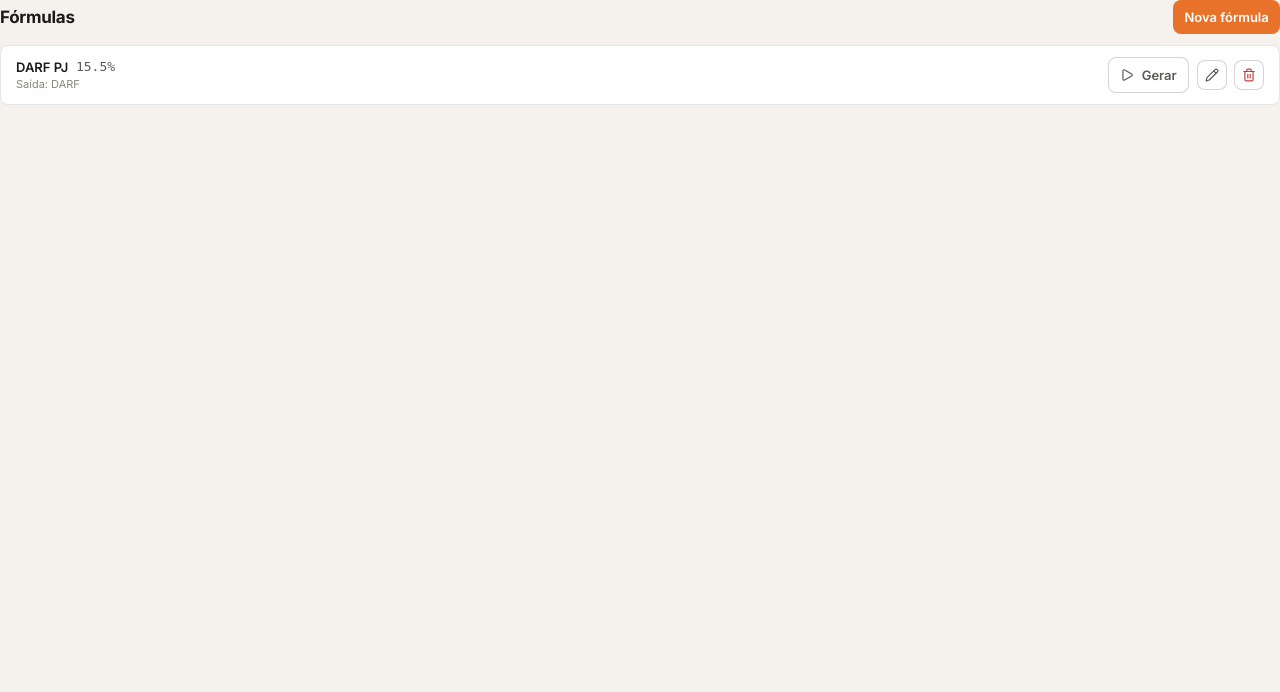
FinanceFormulaSection › shows archived options referenced by the formula in edit with a badge
The width and height of the screenshot is (1280, 692).
Click the button named "Editar fórmula DARF PJ" at [1212, 75], box [1196,60,1226,90]
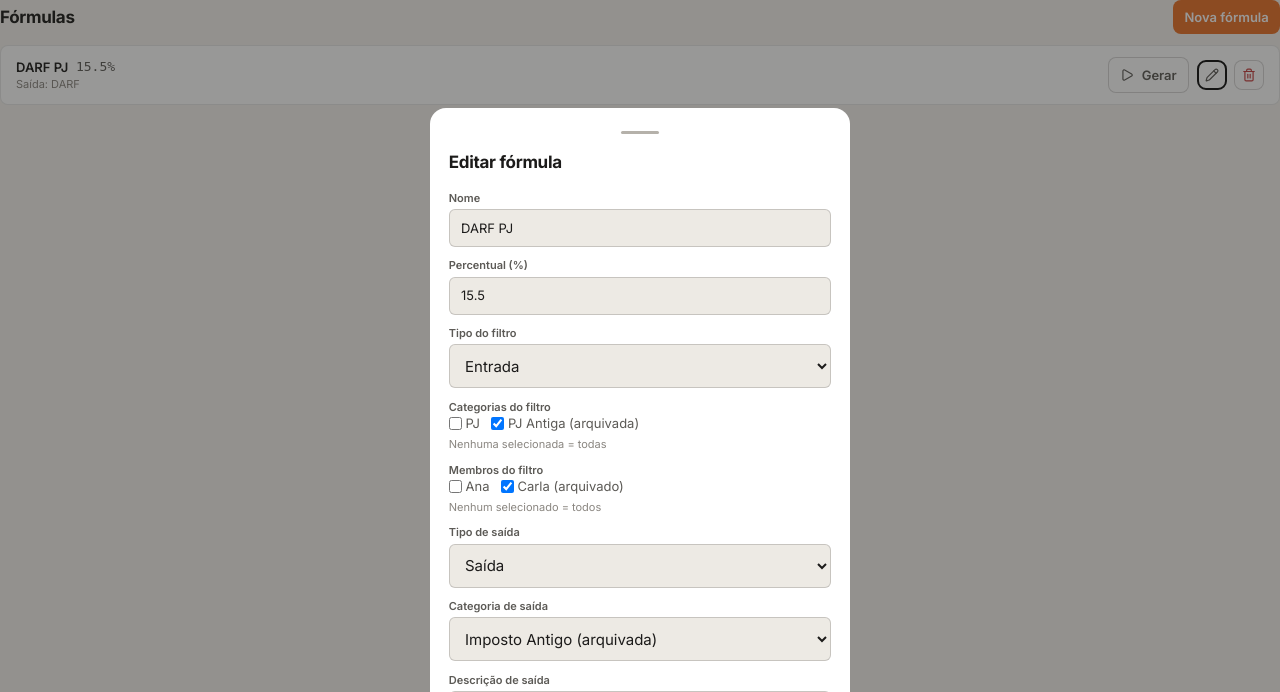
Now the checkbox labelled "PJ Antiga (arquivada)" is checked, box [491,417,504,430]
Now the checkbox labelled "Carla (arquivado)" is checked, box [501,480,514,493]
Now the dropdown labelled "Categoria de saída" shows "Imposto Antigo (arquivada)", box [449,618,831,662]
